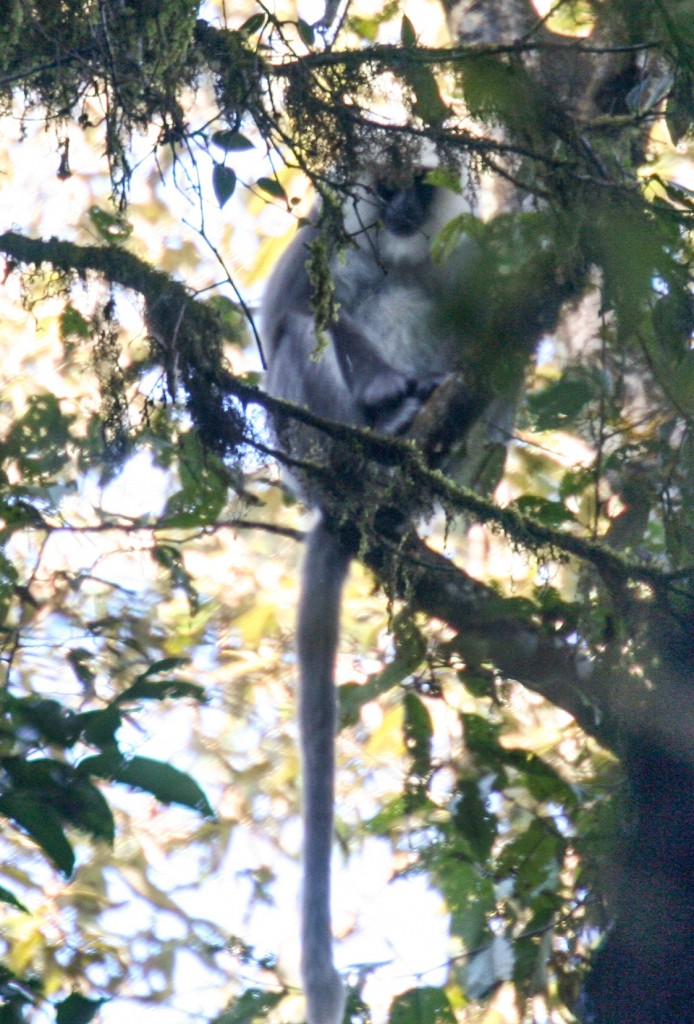monkey: (228, 122, 544, 1010)
